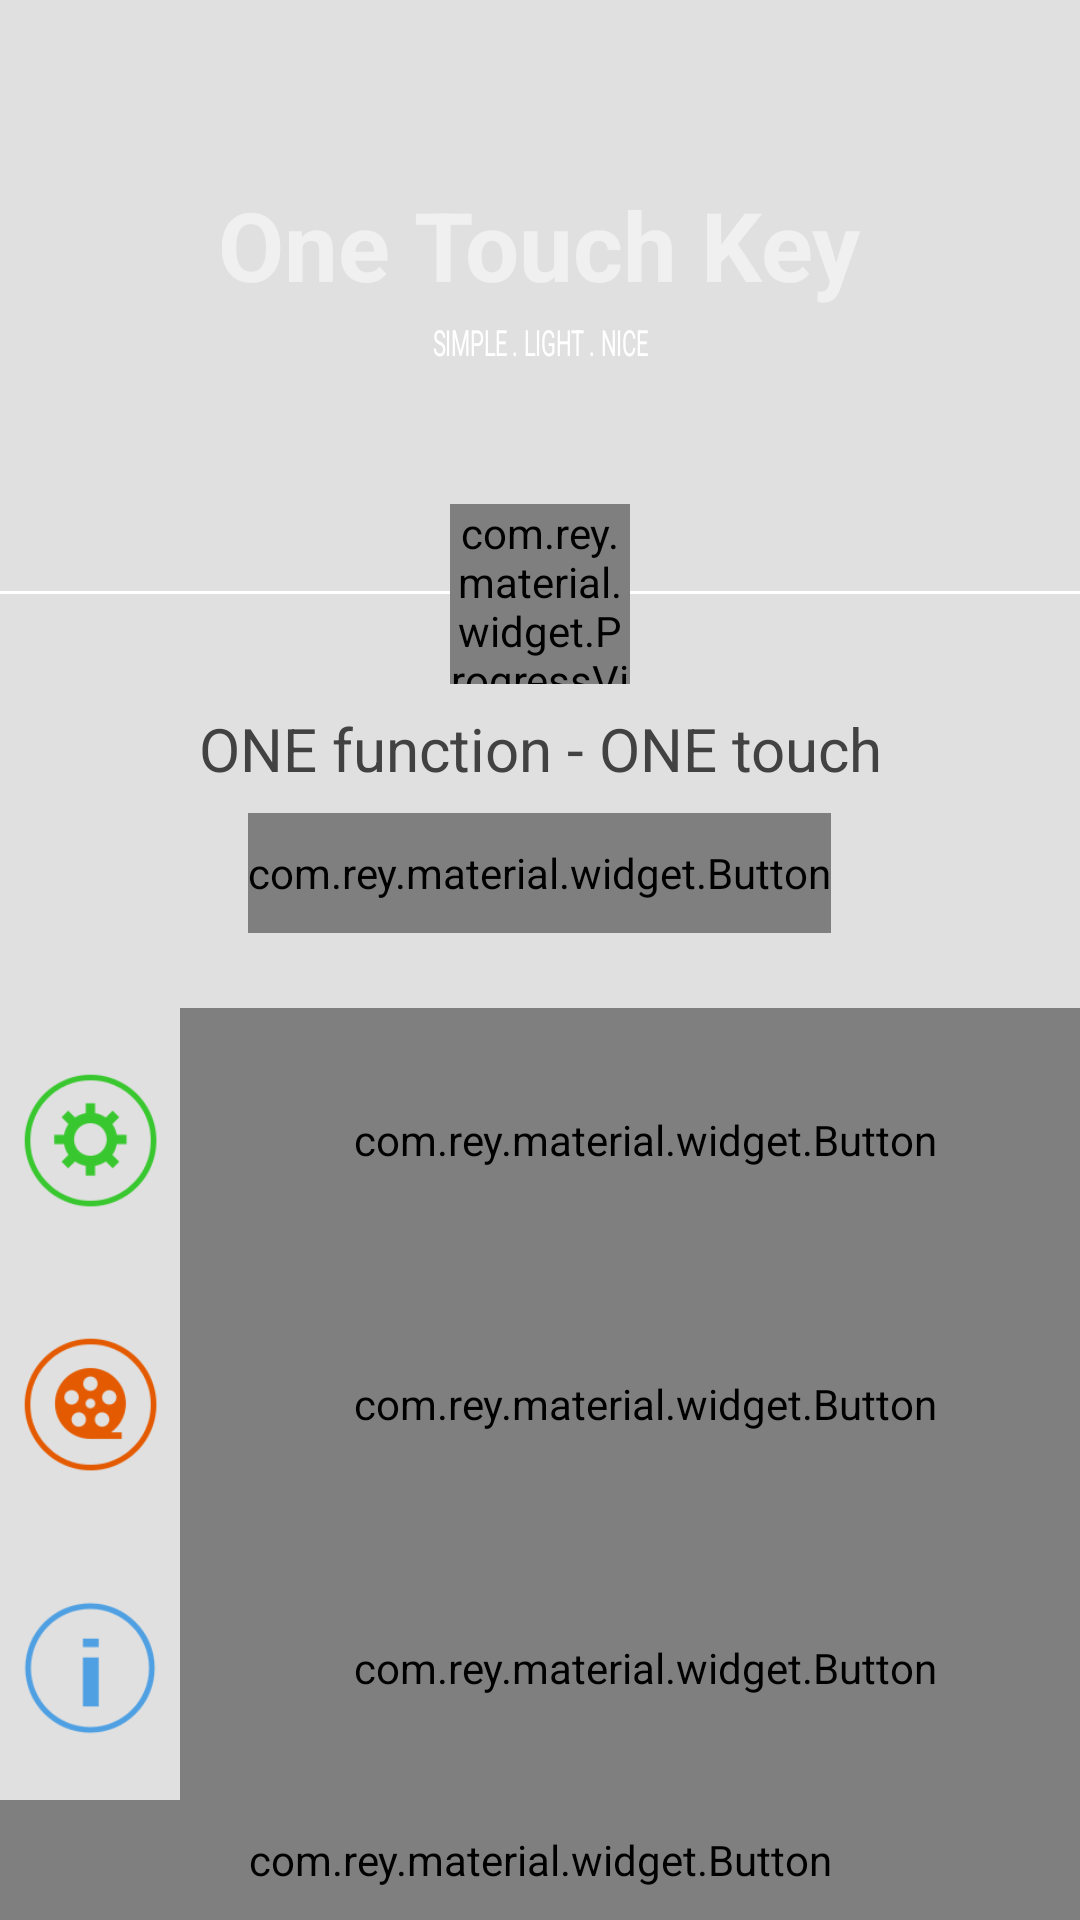

Where to tap for icons on this 1080*1920 app screen, as point (x, y):
info: point (90, 1668)
setting: point (90, 1140)
